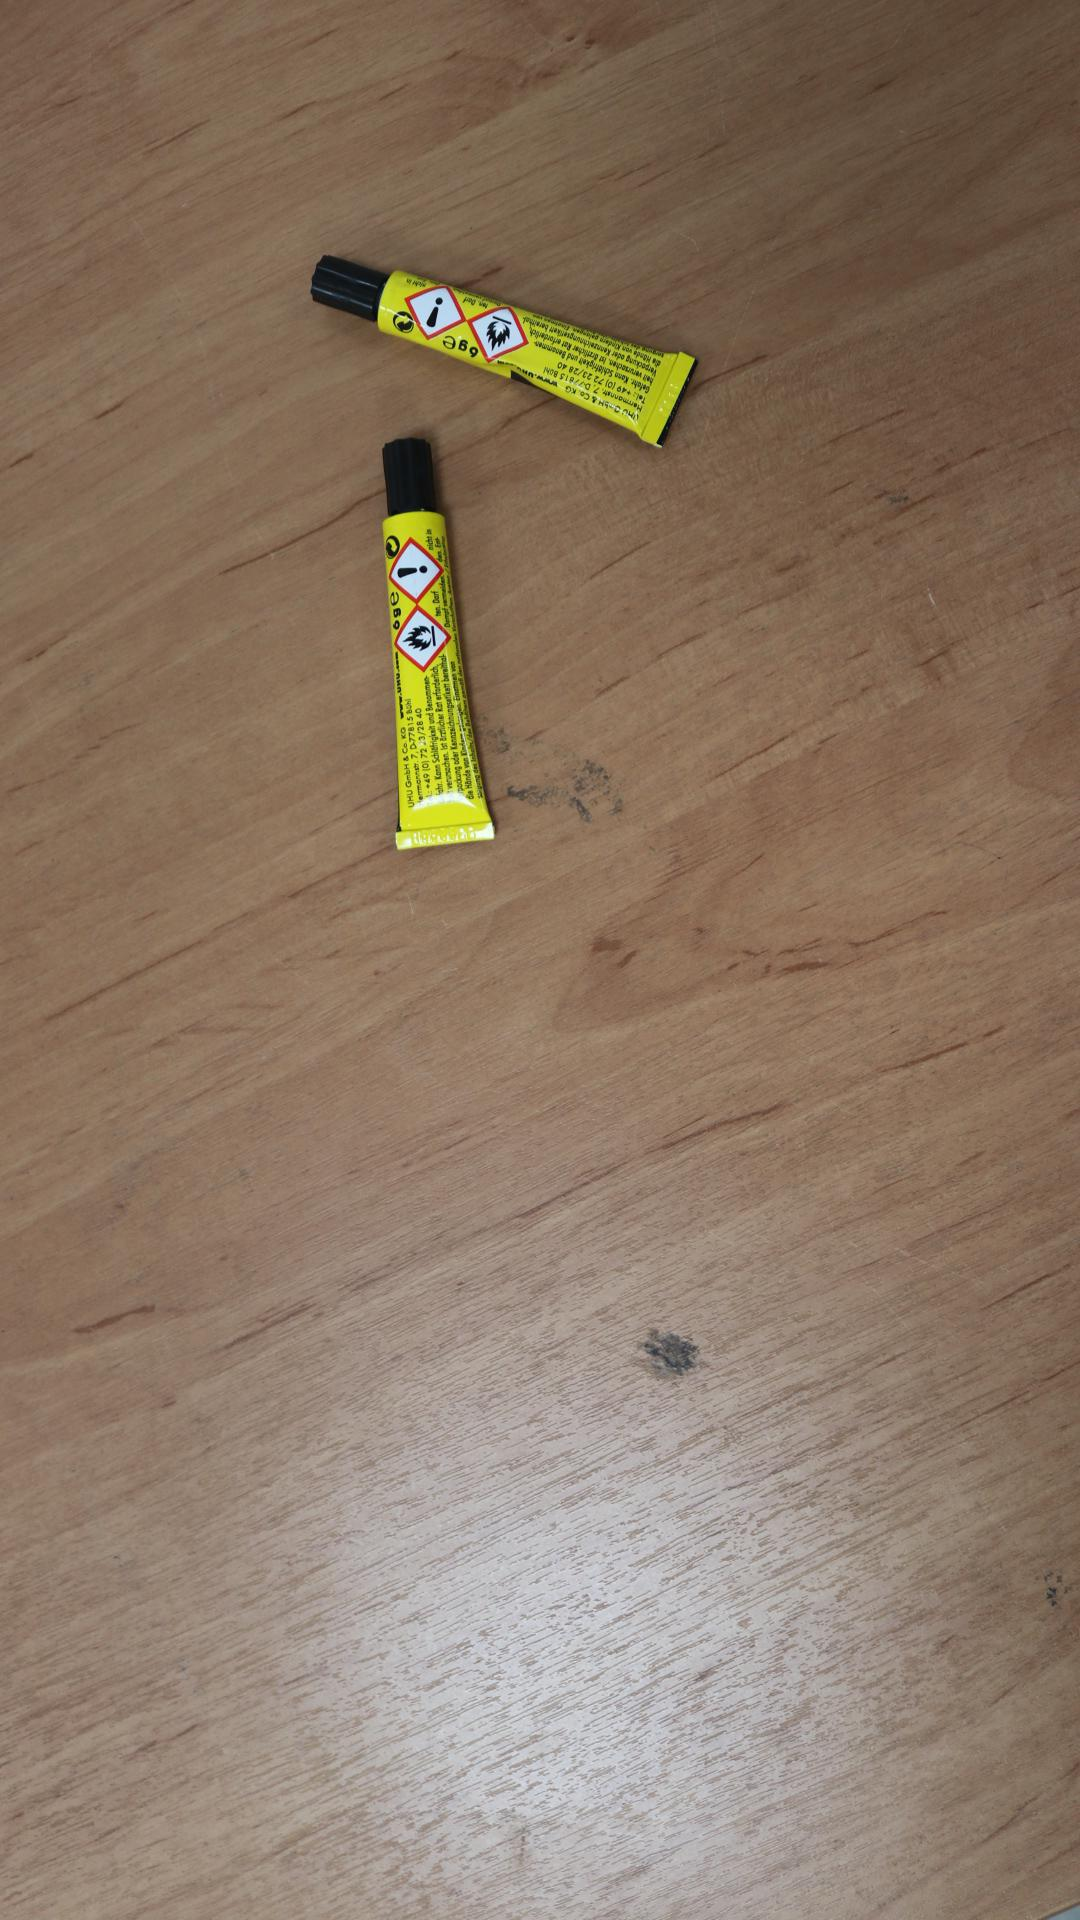Head: (407, 473, 411, 476), (345, 280, 348, 283)
Tail: (667, 396, 671, 400), (440, 834, 443, 837)
Tube: (310, 253, 700, 449), (382, 437, 497, 849)
